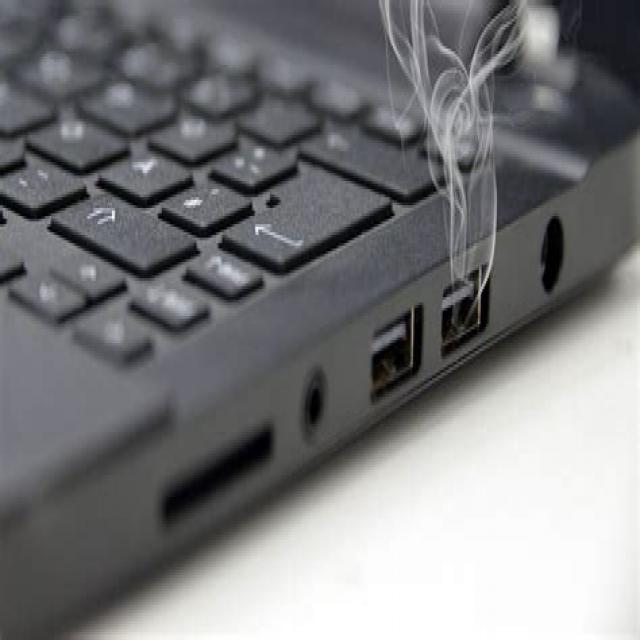usb port: (362, 313, 422, 392), (435, 270, 489, 346)
